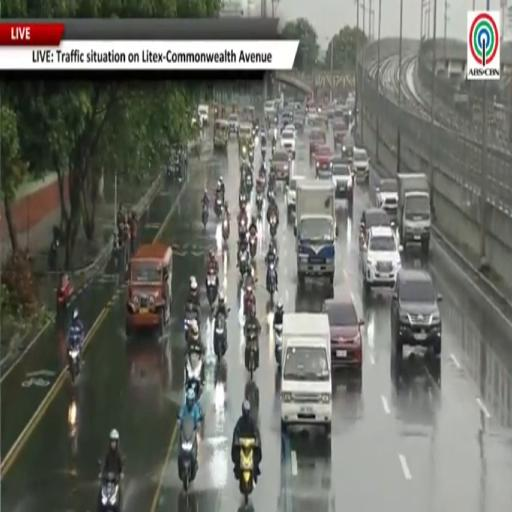car: (391, 268, 441, 358), (323, 296, 363, 371), (360, 227, 402, 292), (360, 208, 394, 250), (332, 157, 353, 205), (376, 179, 398, 217), (285, 175, 304, 216), (271, 150, 290, 181), (315, 144, 332, 178), (353, 148, 369, 182), (309, 128, 326, 159), (281, 127, 296, 159), (333, 119, 347, 149), (342, 134, 354, 163), (198, 104, 209, 126), (228, 114, 239, 134)
jeepney: (126, 243, 172, 334), (239, 122, 253, 156), (214, 120, 229, 150)
motorcycle: (236, 438, 256, 505), (179, 420, 197, 491), (98, 472, 121, 511), (185, 351, 203, 399), (56, 282, 73, 322), (245, 331, 258, 379), (214, 314, 227, 361), (68, 340, 81, 382), (184, 303, 199, 339), (206, 269, 218, 308), (57, 288, 68, 322), (274, 325, 282, 370), (48, 240, 59, 271), (267, 262, 276, 299), (239, 251, 250, 278), (244, 291, 255, 316), (249, 234, 257, 260), (268, 171, 276, 197), (359, 222, 366, 250), (222, 218, 230, 242), (245, 171, 253, 192), (215, 197, 223, 218), (256, 194, 263, 217), (239, 216, 247, 236), (270, 216, 277, 238), (202, 203, 208, 228), (239, 194, 247, 210), (249, 149, 254, 164), (262, 147, 266, 161), (272, 143, 275, 155)
truck: (281, 313, 332, 435), (294, 180, 338, 284), (397, 173, 431, 255)
